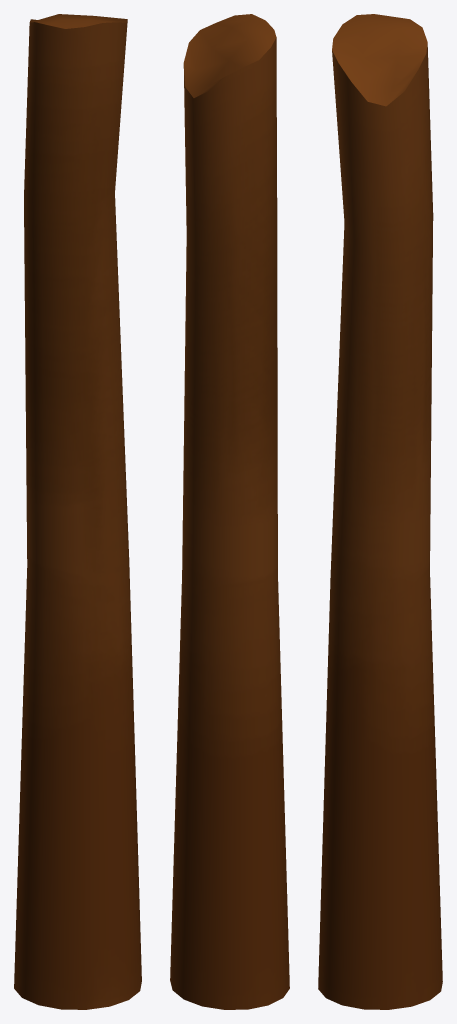
The model's file is woodpole1.fbx.
3 renders of one model, left to right at view 1: azimuth 90°, elevation 25°; view 2: azimuth 210°, elevation 25°; view 3: azimuth 270°, elevation 25°, orthographic. The views are drawn at different scales.
Visible parts, largest first — view 1: Dock.007; view 2: Dock.007; view 3: Dock.007.
Part boxes in pixels (x1,y1,x2,y2): Dock.007: [14, 14, 141, 1009]; Dock.007: [170, 14, 289, 1009]; Dock.007: [318, 14, 442, 1009].
Bounding box in the file's own units: 54.54 × 496 × 58.74.
